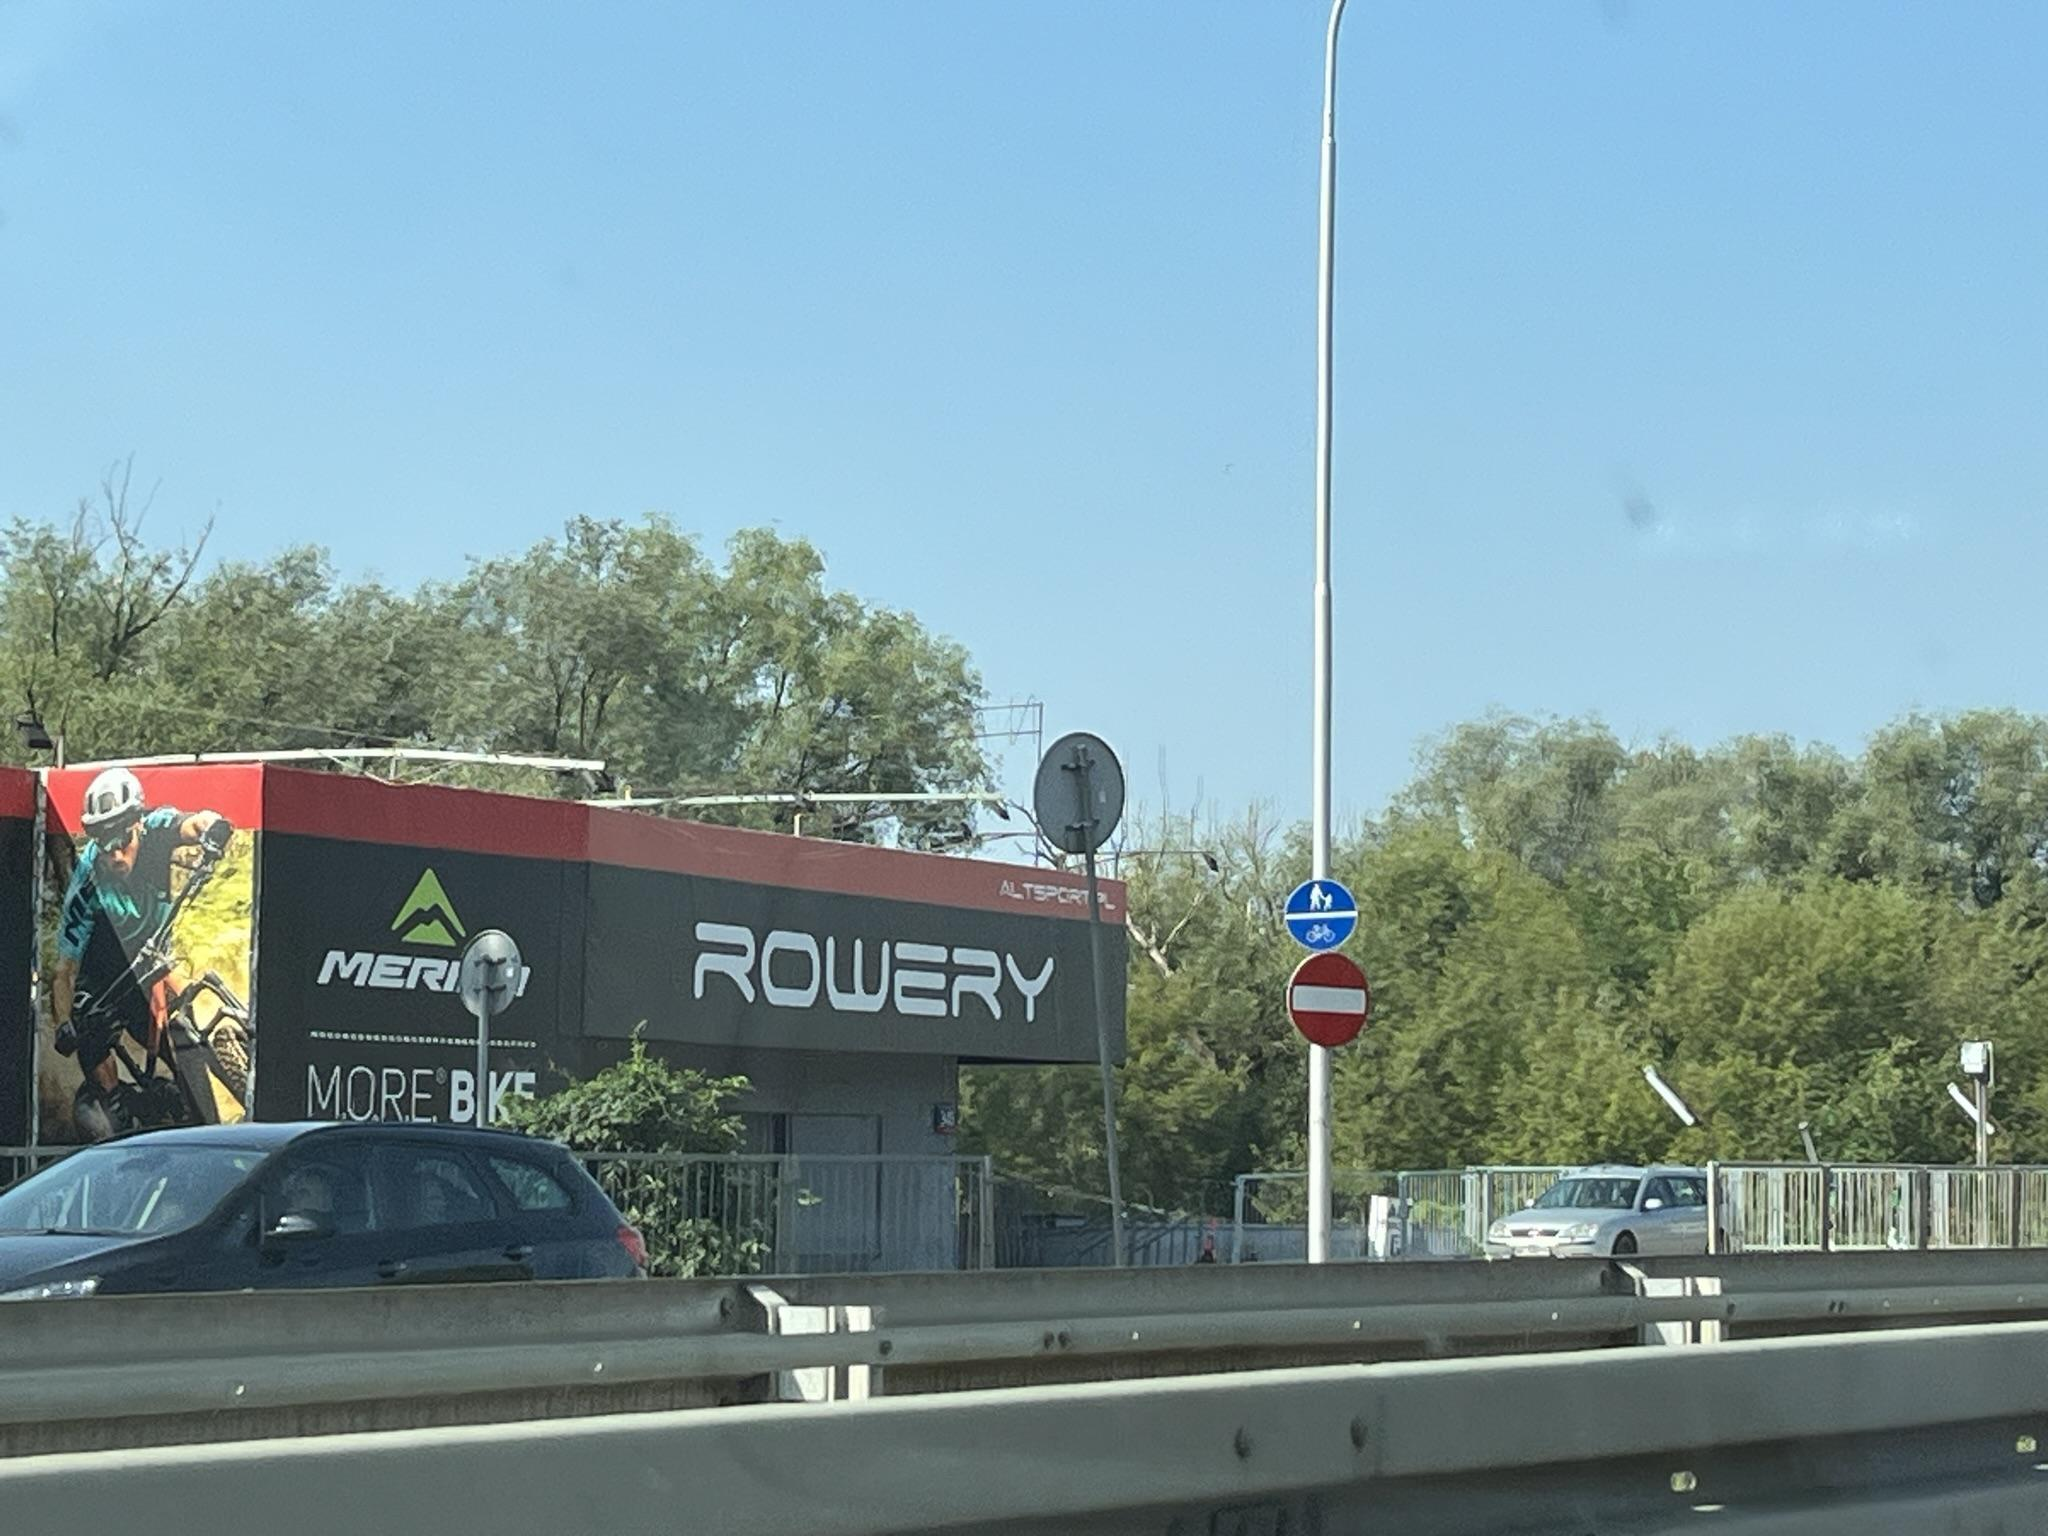mandatory: (1282, 879, 1359, 954)
prohibitory: (1284, 950, 1372, 1047)
